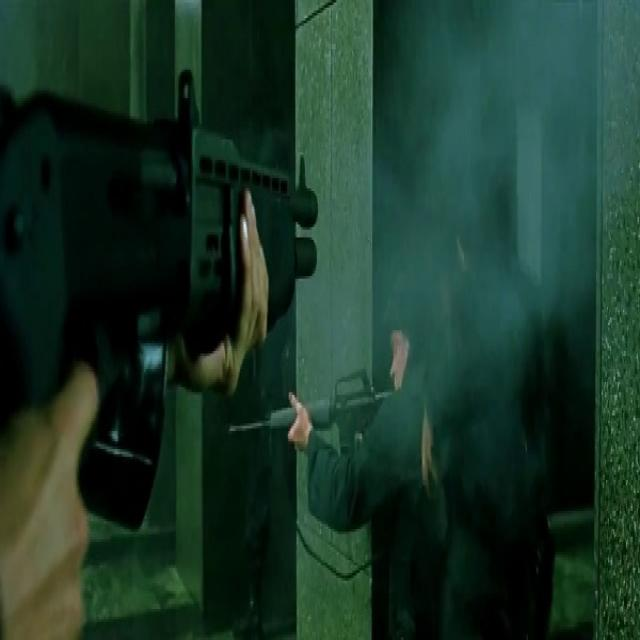rifle: (1, 65, 321, 458), (227, 368, 394, 449)
